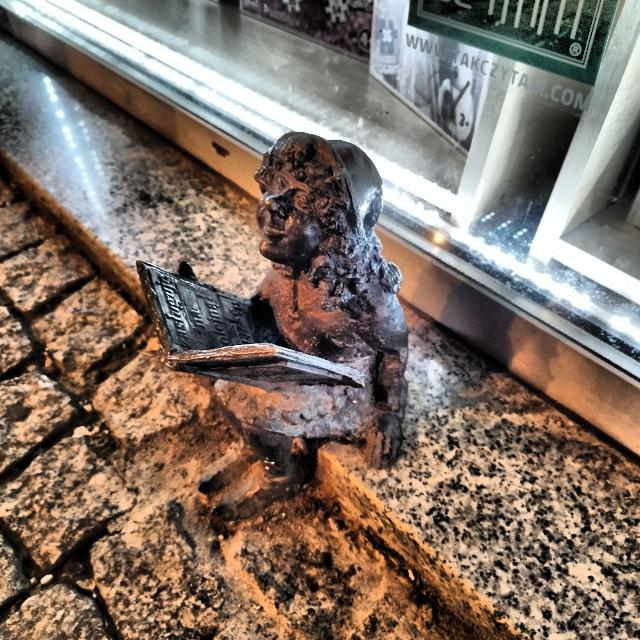Ksiegarka: (130, 126, 427, 531)
